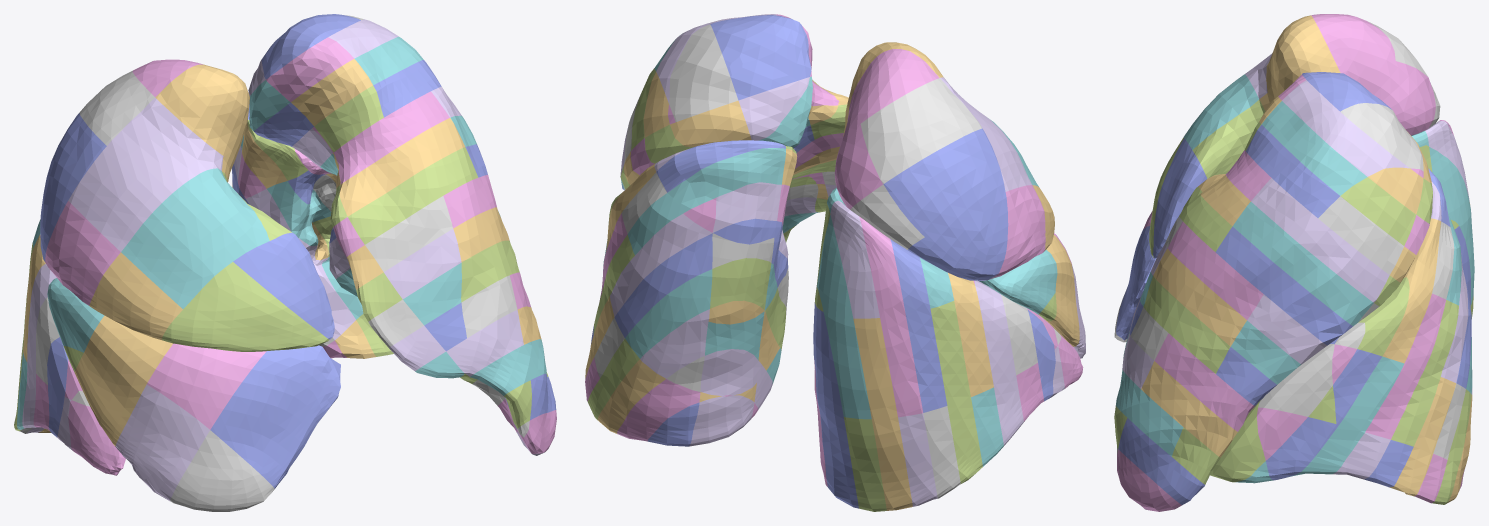
The model's file is lung-male-small.glb.
3 renders of one model, left to right at view 1: azimuth 30°, elevation 25°; view 2: azimuth 150°, elevation 25°; view 3: azimuth 270°, elevation 25°, orthographic. The views are drawn at different scales.
Parts seen in each view (by area): view 1: VHM-RUL-4A2, VHM-RML-1A2, VHM-RML-2A3, VHM-RUL-2A3, VHM-RUL-3A2, VHM-RML-2A2, VHM-RUL-2A2, VHM-RUL-3A3, VHM-RUL-2A4, VHM-RML-1A3, VHM-RML-1A1, VHM-RUL-3A1 (+64 smaller); view 2: VHM-RUL-1A2, VHM-RUL-1A3, VHM-LUL-1A2, VHM-LUL-1A3, VHM-RUL-1A1, VHM-RUL-1A4, VHM-RLL-9A1, VHM-RLL-10A2, VHM-RUL-2A1, VHM-RLL-9A2, VHM-RLL-8A2, VHM-RLL-10A3 (+70 smaller); view 3: VHM-LUL-6A4, VHM-LUL-5A4, VHM-LLL-11B4, VHM-LUL-4A4, VHM-LUL-7A4, VHM-RUL-1A4, VHM-RUL-1B3, VHM-LUL-2A3, VHM-RUL-3B3, VHM-LUL-1A3, VHM-LUL-8A4, VHM-LUL-3A4 (+81 smaller).
Part boxes in pixels (bbox=[...]): VHM-RUL-4A2: bbox=[183, 262, 312, 351]; VHM-RML-1A2: bbox=[210, 370, 313, 488]; VHM-RML-2A3: bbox=[115, 384, 209, 501]; VHM-RUL-2A3: bbox=[107, 97, 223, 200]; VHM-RUL-3A2: bbox=[121, 201, 232, 308]; VHM-RML-2A2: bbox=[147, 343, 250, 429]; VHM-RUL-2A2: bbox=[68, 146, 164, 251]; VHM-RUL-3A3: bbox=[164, 168, 269, 261]; VHM-RUL-2A4: bbox=[155, 64, 247, 155]; VHM-RML-1A3: bbox=[170, 430, 274, 511]; VHM-RML-1A1: bbox=[251, 345, 340, 428]; VHM-RUL-3A1: bbox=[89, 252, 182, 339]; VHM-RUL-1A2: bbox=[883, 128, 1005, 236]; VHM-RUL-1A3: bbox=[860, 78, 982, 183]; VHM-LUL-1A2: bbox=[710, 15, 799, 100]; VHM-LUL-1A3: bbox=[669, 24, 738, 121]; VHM-RUL-1A1: bbox=[925, 192, 1008, 276]; VHM-RUL-1A4: bbox=[858, 49, 939, 123]; VHM-RLL-9A1: bbox=[830, 200, 879, 318]; VHM-RLL-10A2: bbox=[823, 312, 871, 419]; VHM-RUL-2A1: bbox=[994, 185, 1045, 276]; VHM-RLL-9A2: bbox=[853, 318, 897, 419]; VHM-RLL-8A2: bbox=[880, 314, 923, 417]; VHM-RLL-10A3: bbox=[844, 417, 886, 511]; VHM-LUL-6A4: bbox=[1279, 241, 1373, 326]; VHM-LUL-5A4: bbox=[1297, 218, 1389, 302]; VHM-LLL-11B4: bbox=[1258, 344, 1334, 416]; VHM-LUL-4A4: bbox=[1318, 196, 1403, 274]; VHM-LUL-7A4: bbox=[1264, 267, 1352, 345]; VHM-RUL-1A4: bbox=[1311, 14, 1395, 60]; VHM-RUL-1B3: bbox=[1381, 61, 1435, 135]; VHM-LUL-2A3: bbox=[1315, 112, 1409, 176]; VHM-RUL-3B3: bbox=[1192, 99, 1265, 178]; VHM-LUL-1A3: bbox=[1340, 103, 1423, 171]; VHM-LUL-8A4: bbox=[1247, 294, 1327, 364]; VHM-LUL-3A4: bbox=[1340, 177, 1415, 245].
Size of the model in its own units: 0.2594 by 0.2291 by 0.1897.
